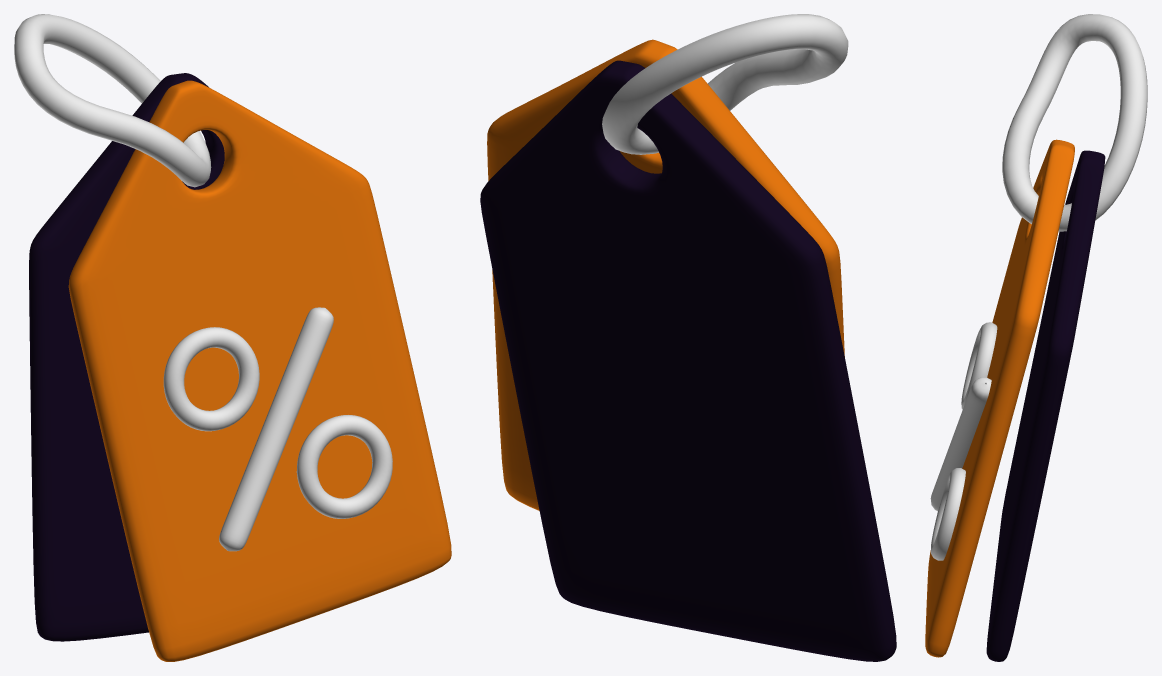
3 renders of one model, left to right at view 1: azimuth 30°, elevation 25°; view 2: azimuth 150°, elevation 25°; view 3: azimuth 270°, elevation 25°, orthographic. The views are drawn at different scales.
Parts seen in each view (by area): view 1: Plane, Plane.001, BézierCircle.004, NurbsPath.003, BézierCircle.002, BézierCircle.003; view 2: Plane.001, Plane, BézierCircle.004; view 3: Plane, Plane.001, BézierCircle.004, NurbsPath.003, BézierCircle.003, BézierCircle.002.
Part boxes in pixels (left/top/right/bottom): Plane: left=68, top=80, right=451, bottom=661; Plane.001: left=29, top=73, right=224, bottom=641; BézierCircle.004: left=14, top=14, right=211, bottom=187; NurbsPath.003: left=219, top=307, right=333, bottom=551; BézierCircle.002: left=163, top=327, right=259, bottom=431; BézierCircle.003: left=296, top=415, right=392, bottom=518; Plane.001: left=480, top=60, right=896, bottom=661; Plane: left=487, top=39, right=844, bottom=510; BézierCircle.004: left=602, top=14, right=848, bottom=154; Plane: left=925, top=139, right=1074, bottom=657; Plane.001: left=986, top=150, right=1105, bottom=661; BézierCircle.004: left=1002, top=14, right=1147, bottom=231; NurbsPath.003: left=930, top=377, right=991, bottom=511; BézierCircle.003: left=931, top=468, right=965, bottom=560; BézierCircle.002: left=961, top=322, right=997, bottom=409.
Bounding box in the file's own units: 3.65 × 5.62 × 2.1.
